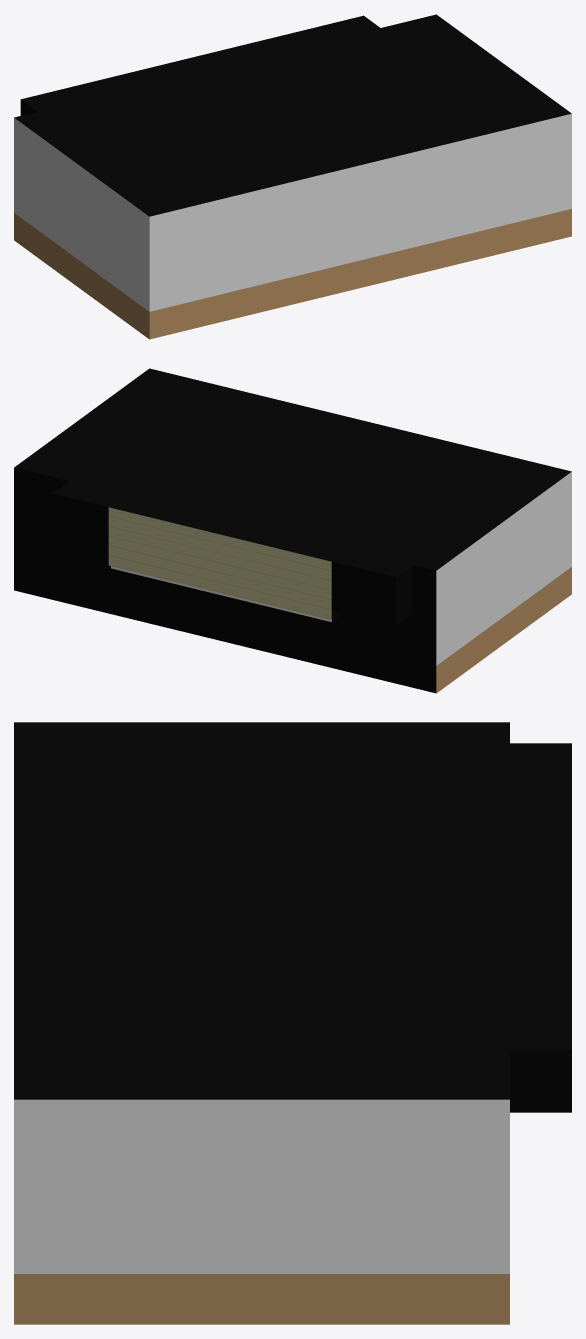
Rendered from CStage.glb.
3 views of the same model, one above another, from view 1: azimuth 30°, elevation 25°; view 2: azimuth 150°, elevation 25°; view 3: azimuth 270°, elevation 25° (orthographic). The views are drawn at different scales.
Parts seen in each view (by area): view 1: Walls, Backdrop; view 2: Walls, Stage Wall, Balcony, Backdrop; view 3: Walls, Backdrop.
Boxes of the visible parts, <box> form: Walls: <box>14,14,571,339</box>; Backdrop: <box>20,15,379,115</box>; Walls: <box>14,368,571,693</box>; Stage Wall: <box>14,467,436,693</box>; Balcony: <box>108,507,331,621</box>; Backdrop: <box>52,481,412,626</box>; Walls: <box>14,722,509,1324</box>; Backdrop: <box>510,743,571,1112</box>.
Bounding box in the file's own units: 14.4 × 4 × 9.
Materials: 10 (3 with a texture image).
